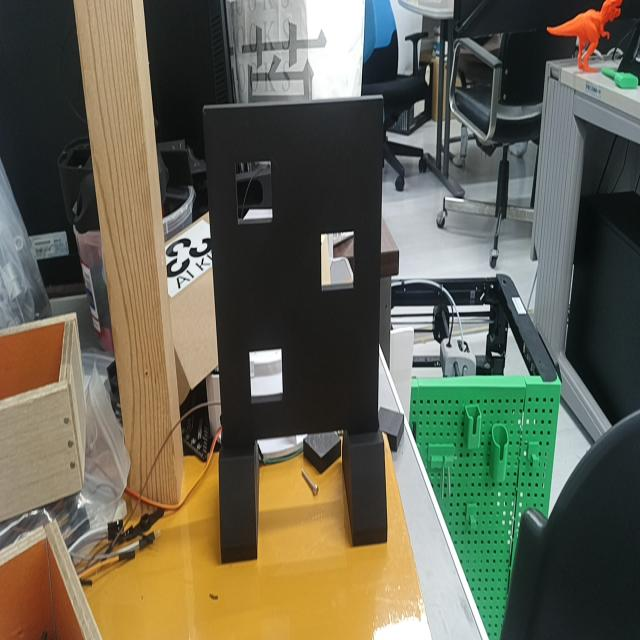Obstacle: (235, 162, 272, 224), (321, 231, 354, 292), (249, 349, 283, 404)
Wall: (204, 98, 383, 440)
